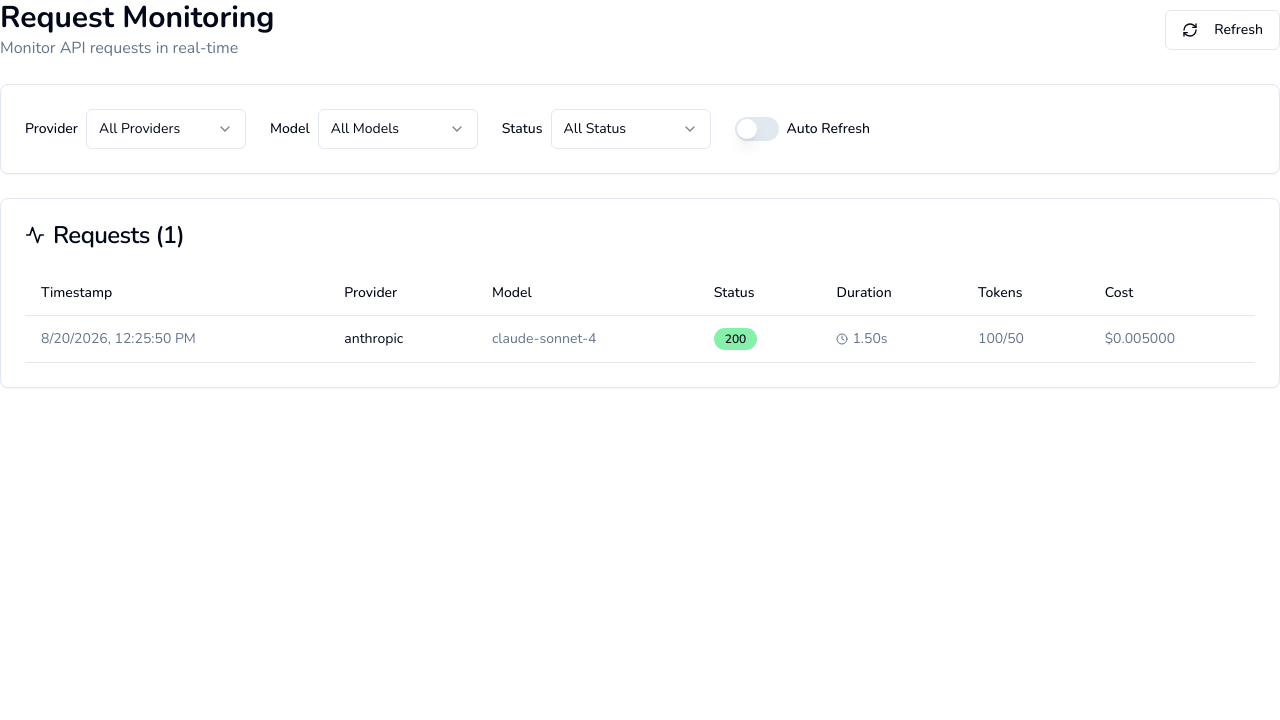
Scenario: MonitoringPage › opens detail modal when clicking a request row
Expected: the text "anthropic" is shown, x1=344 y1=329 x2=403 y2=348
Click the text "anthropic" at (640, 339), box x1=25 y1=316 x2=1255 y2=362
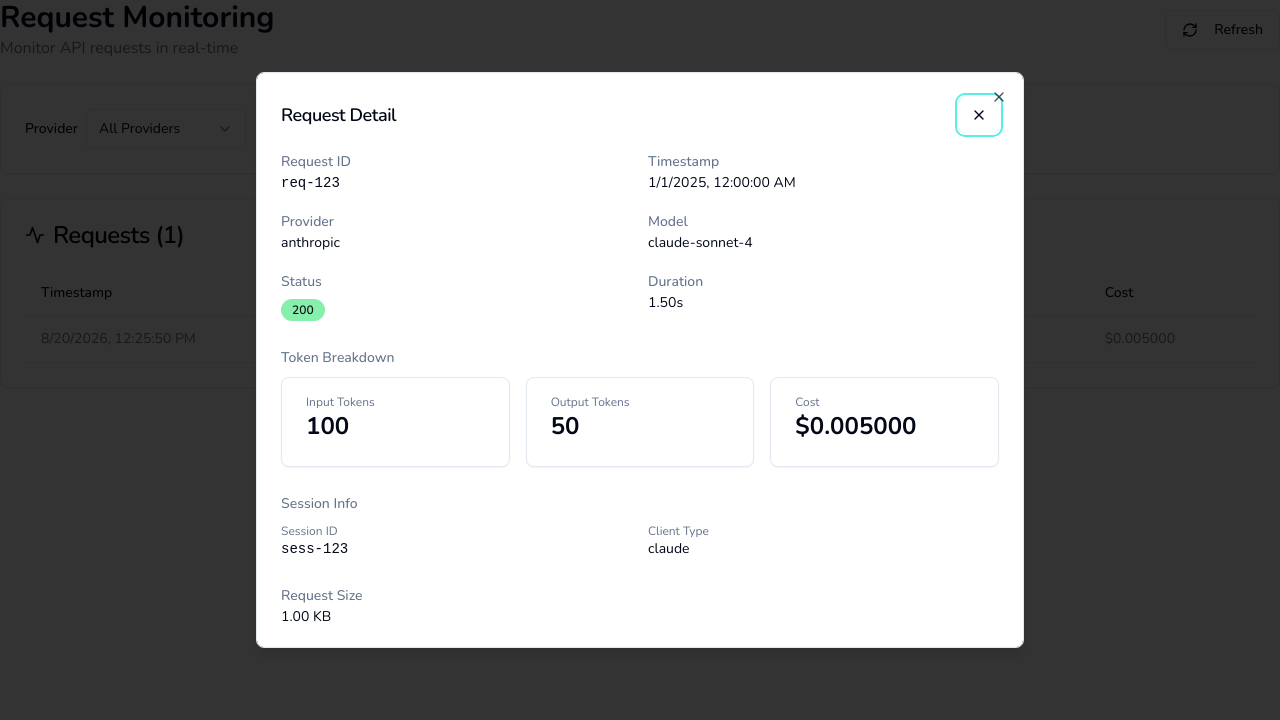
Now the text "req-123" is shown, box x1=281 y1=175 x2=340 y2=191
